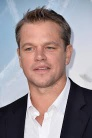male: (12, 9, 78, 88)
